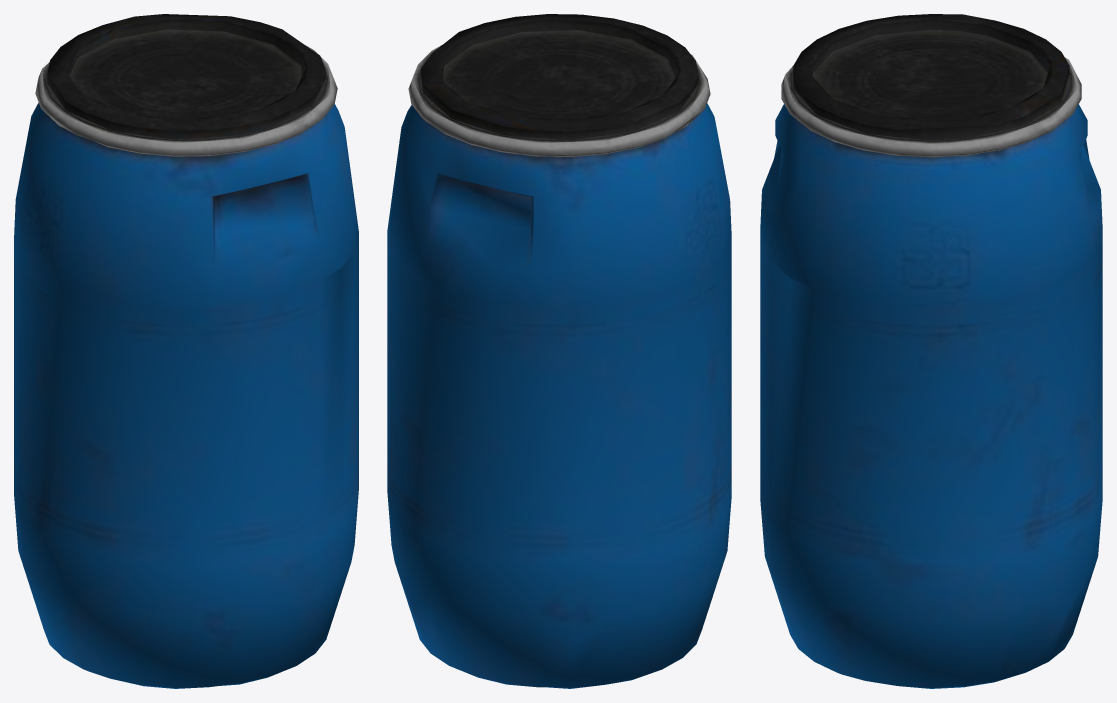
The model's file is Barrel_02.glb.
The picture shows the model from 3 angles, left to right: view 1: azimuth 30°, elevation 25°; view 2: azimuth 150°, elevation 25°; view 3: azimuth 270°, elevation 25°; orthographic projection.
Parts seen in each view (by area): view 1: Barrel_02; view 2: Barrel_02; view 3: Barrel_02.
Boxes of the visible parts, x1,y1,x2,y2 form: Barrel_02: (14,14,358,688); Barrel_02: (387,14,731,688); Barrel_02: (760,14,1102,688).
Bounding box in the file's own units: 0.4882 × 0.88 × 0.4846.
1 material, 1 textured.
